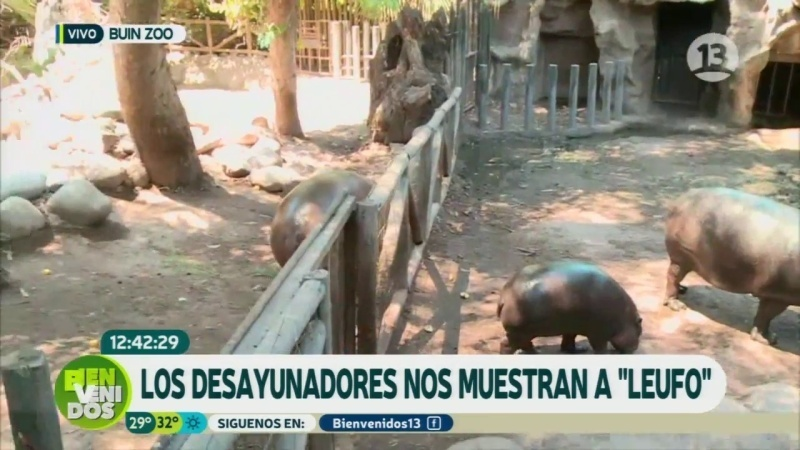hipopotamo: (646, 177, 797, 345), (481, 250, 652, 352), (260, 165, 387, 282)
